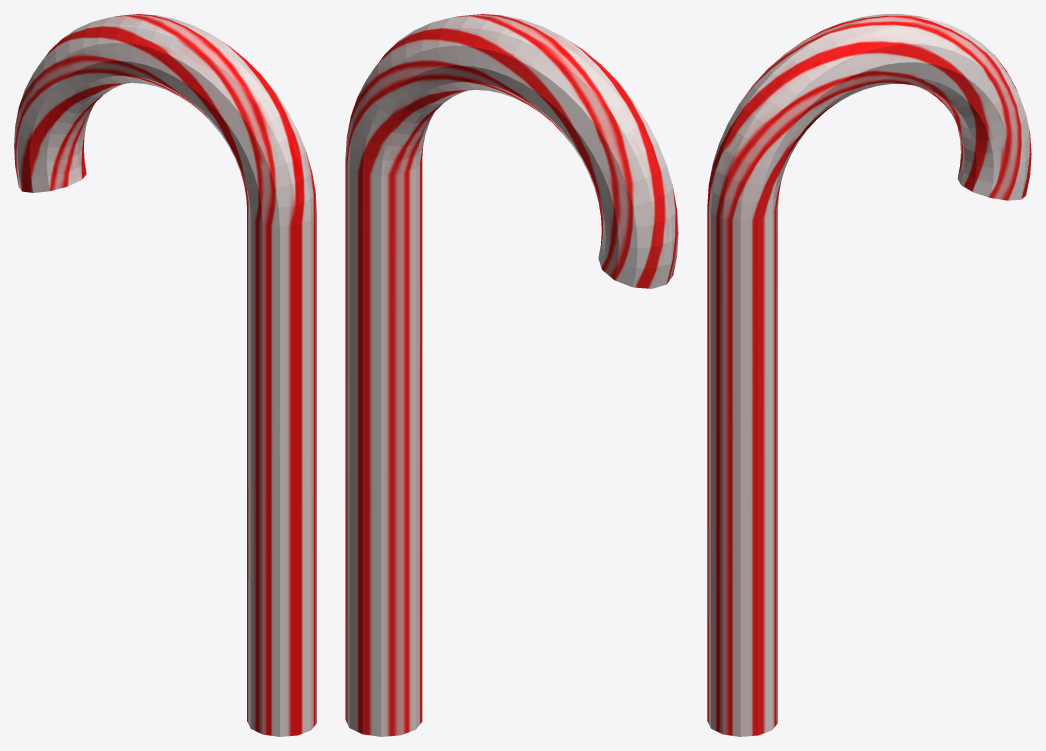
Rendered from zuckerstange.001.gltf.
3 views of the same model, side by side, from view 1: azimuth 30°, elevation 25°; view 2: azimuth 210°, elevation 25°; view 3: azimuth 270°, elevation 25° (orthographic). The views are drawn at different scales.
Parts seen in each view (by area): view 1: zuckerstange.001; view 2: zuckerstange.001; view 3: zuckerstange.001.
Part boxes in pixels (bbox=[...]): zuckerstange.001: bbox=[14, 14, 316, 736]; zuckerstange.001: bbox=[345, 14, 678, 736]; zuckerstange.001: bbox=[707, 14, 1031, 736].
Bounding box in the file's own units: 1.12 × 4.24 × 1.84.
Materials: 1 (1 with a texture image).
